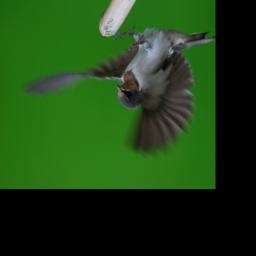Swallow: (24, 26, 212, 158)
